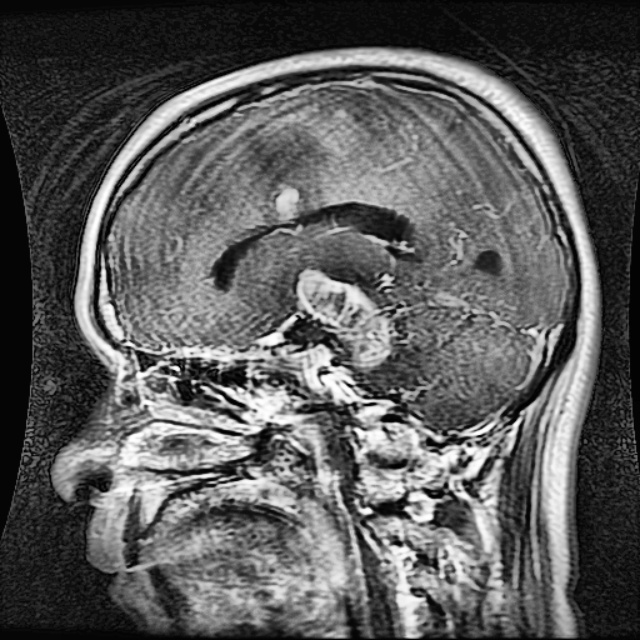Meningioma: (297, 268, 395, 372)
